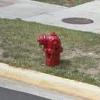Hydrant: (28, 23, 71, 76)
